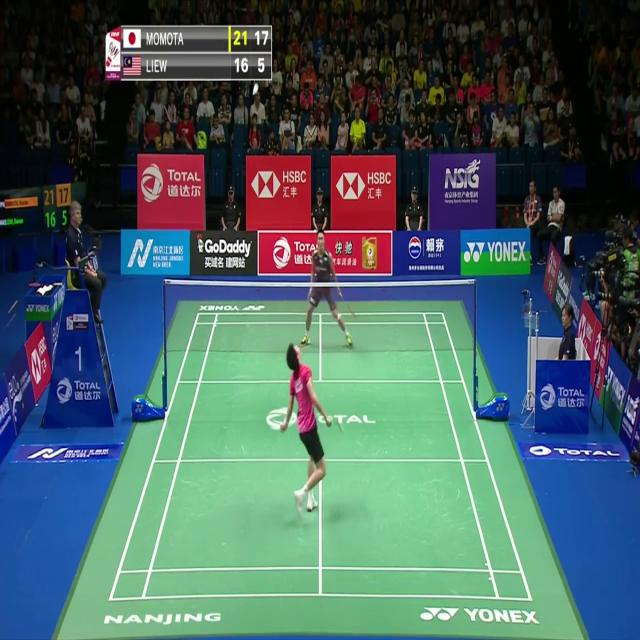Shuttlecock: (252, 83, 258, 95)
